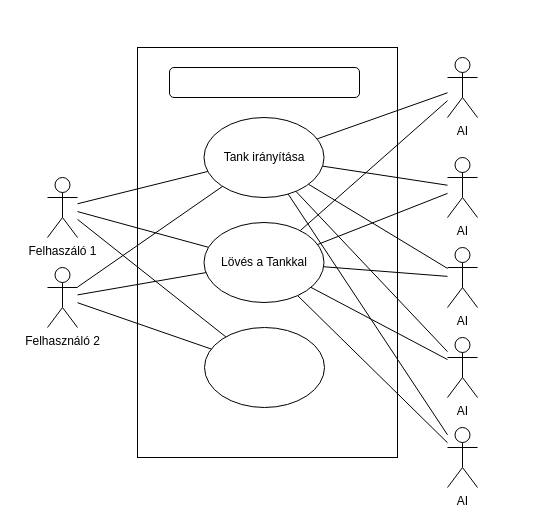
Image size: 534x526. Some labels were removed from this diagram. The shapes that lost their labels are listed below. From the top down, each one's centre as x and y in pixels, then its label:
At (x=264, y=82): "2 vs AI (online) Játék Use-Case diagram".
At (x=264, y=367): "Kilépés játékból".
